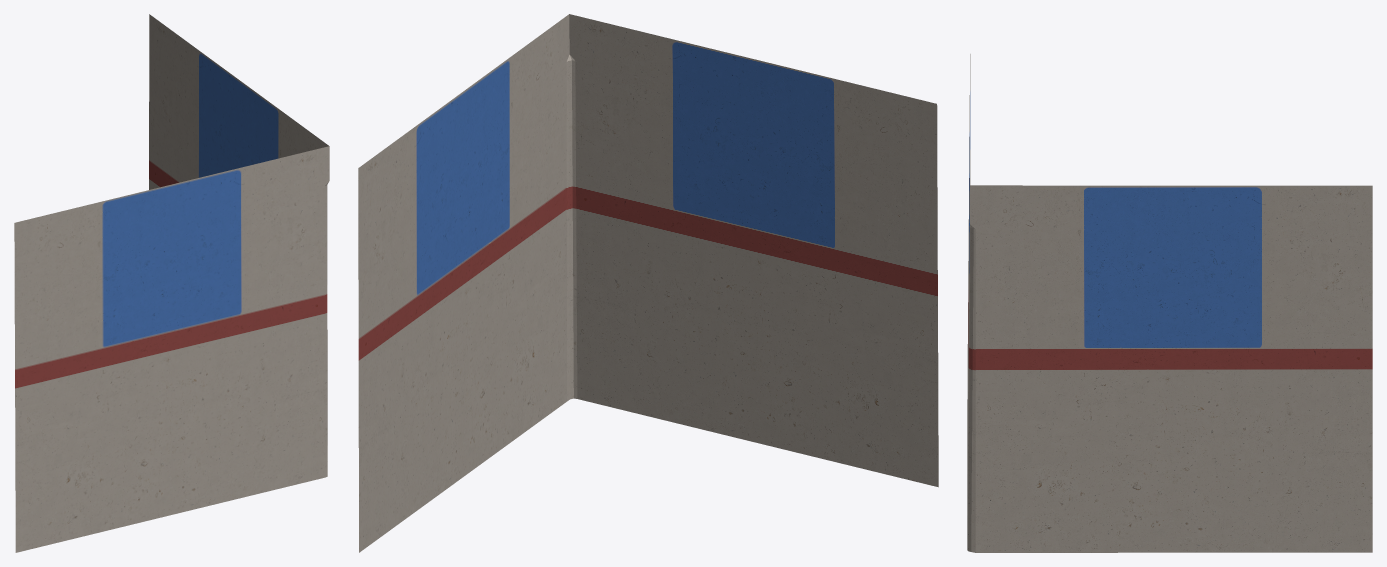
The model's file is GMP_roofskirt_02.fbx.
3 views of the same model, side by side, from view 1: azimuth 30°, elevation 25°; view 2: azimuth 150°, elevation 25°; view 3: azimuth 270°, elevation 25° (orthographic). The views are drawn at different scales.
Parts seen in each view (by area): view 1: corner; view 2: corner; view 3: corner.
Boxes of the visible parts, x1=… form: corner: x1=14, y1=14, x2=329, y2=552; corner: x1=358, y1=14, x2=938, y2=552; corner: x1=967, y1=54, x2=1372, y2=552.
Size of the model in its own units: 2 by 2 by 2.
